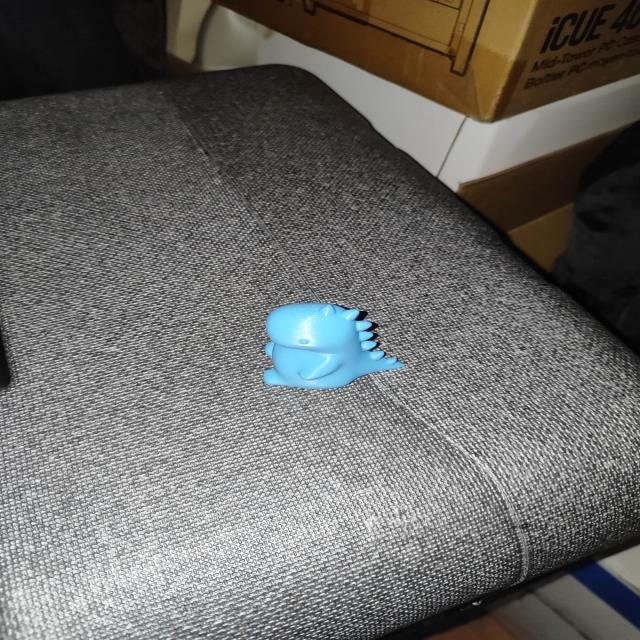DINO: (251, 295, 406, 400)
